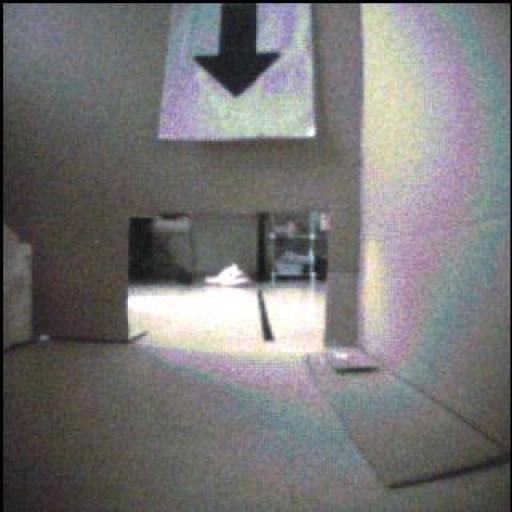arrow: (196, 4, 281, 97)
